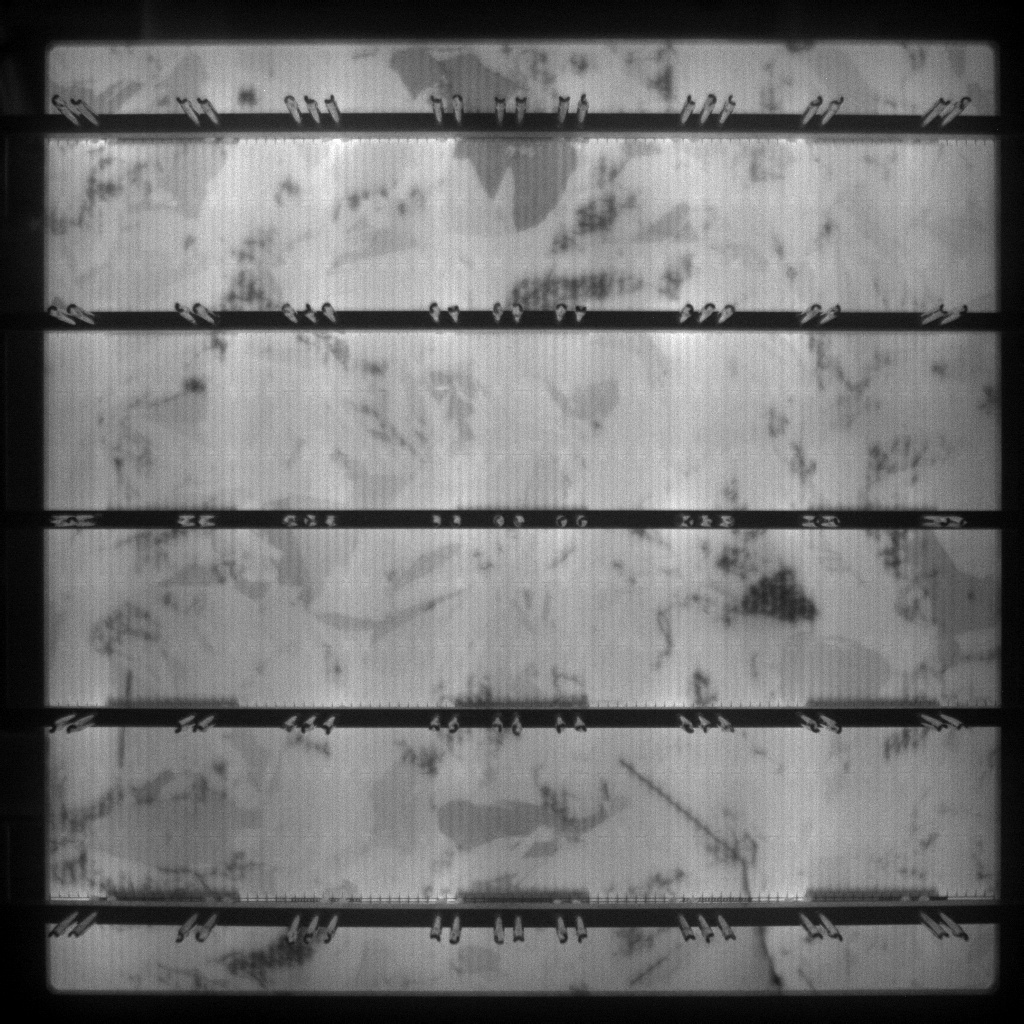crack: (617, 757, 752, 894), (755, 930, 785, 989)
